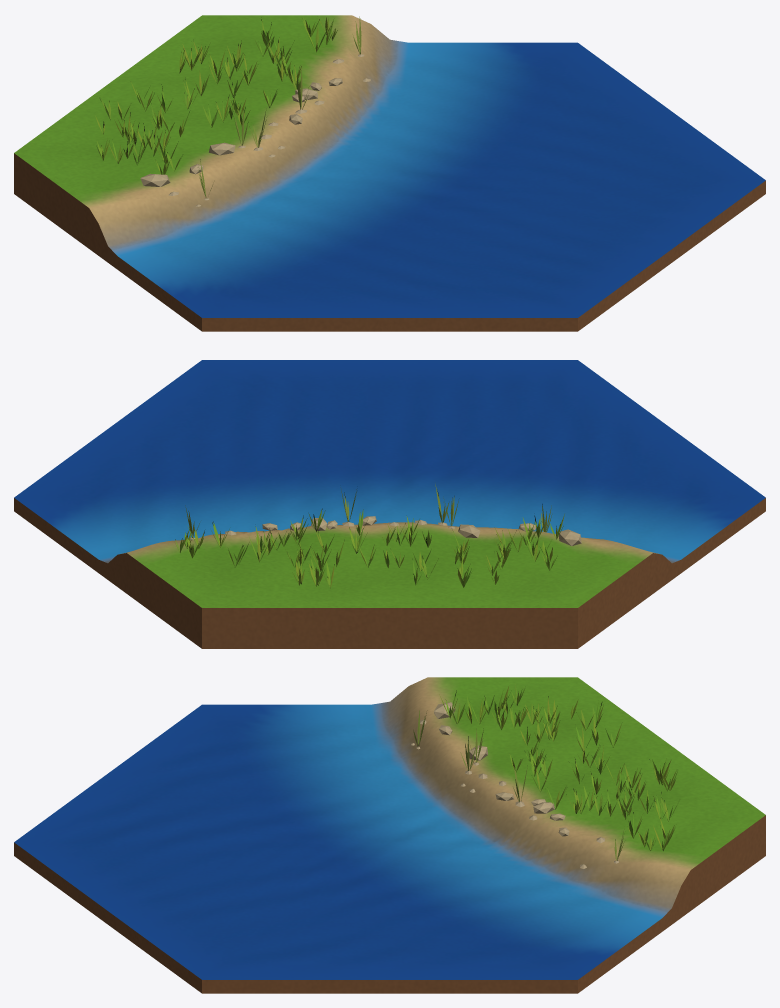
File: SM_Agua_Cabo_Detalle_LOD0.fbx
The picture shows the model from 3 angles, top to bottom: view 1: azimuth 30°, elevation 25°; view 2: azimuth 150°, elevation 25°; view 3: azimuth 270°, elevation 25°; orthographic projection.
Visible parts, largest first — view 1: SM_Agua_Cabo_Detalle_LOD0; view 2: SM_Agua_Cabo_Detalle_LOD0; view 3: SM_Agua_Cabo_Detalle_LOD0.
Part boxes in pixels (bbox=[...]): SM_Agua_Cabo_Detalle_LOD0: bbox=[14, 15, 765, 331]; SM_Agua_Cabo_Detalle_LOD0: bbox=[14, 360, 765, 648]; SM_Agua_Cabo_Detalle_LOD0: bbox=[14, 677, 765, 993].
Bounding box in the file's own units: 1.73 × 0.2431 × 2.
Materials: 1 (1 with a texture image).
